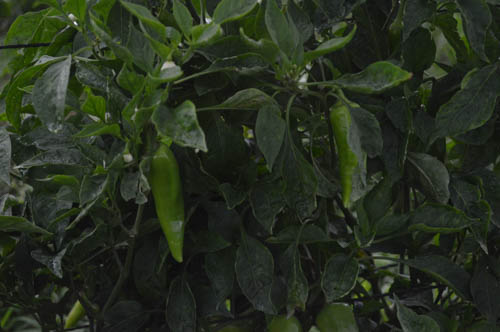ChiliPepper: (151, 145, 190, 263), (327, 103, 363, 205)
